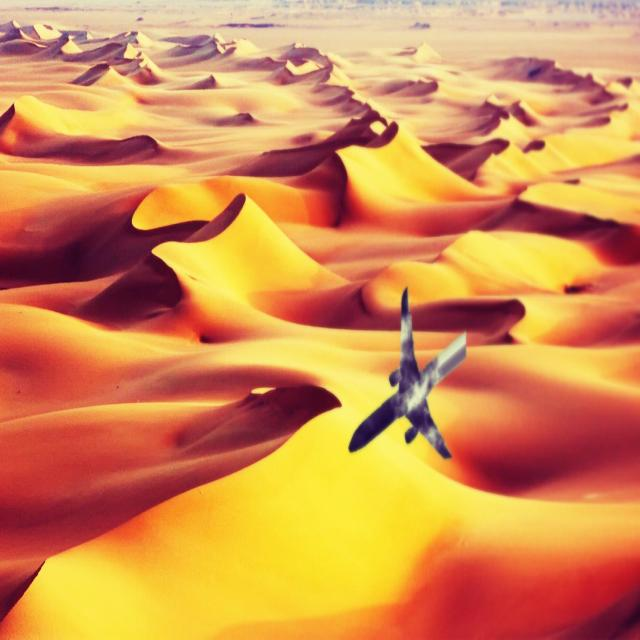airplane: (348, 285, 467, 460)
